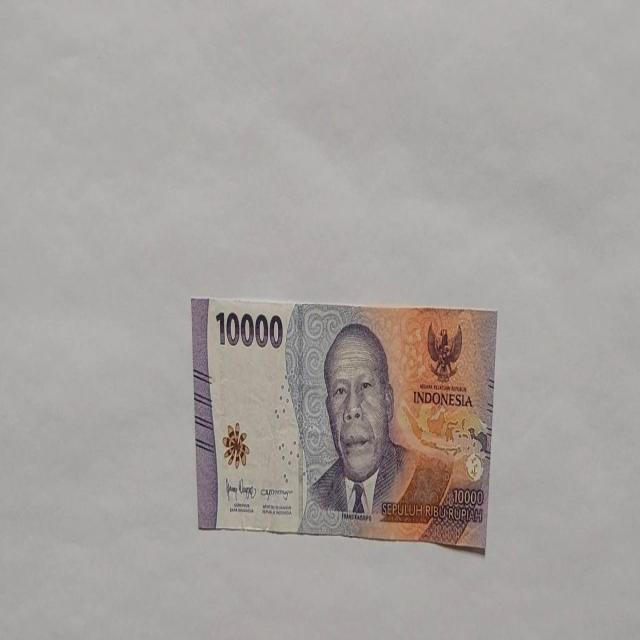Kertas: (191, 295, 498, 554), (214, 308, 284, 351)
